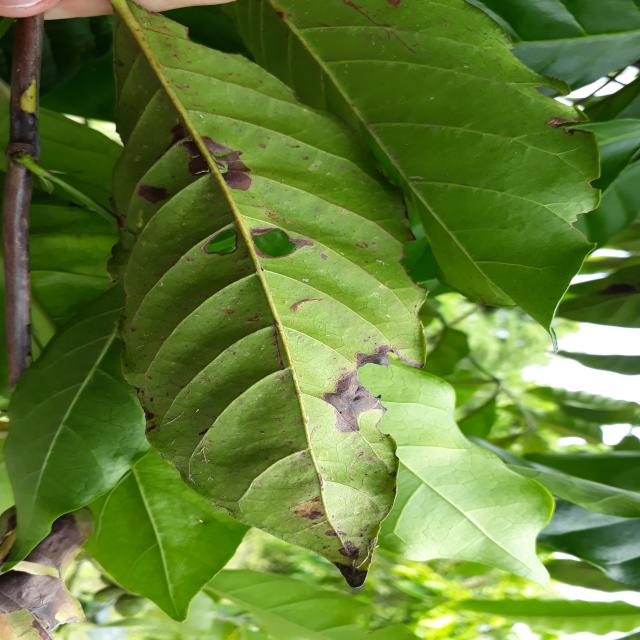Plaga-AranaRoja: (107, 0, 423, 589)
